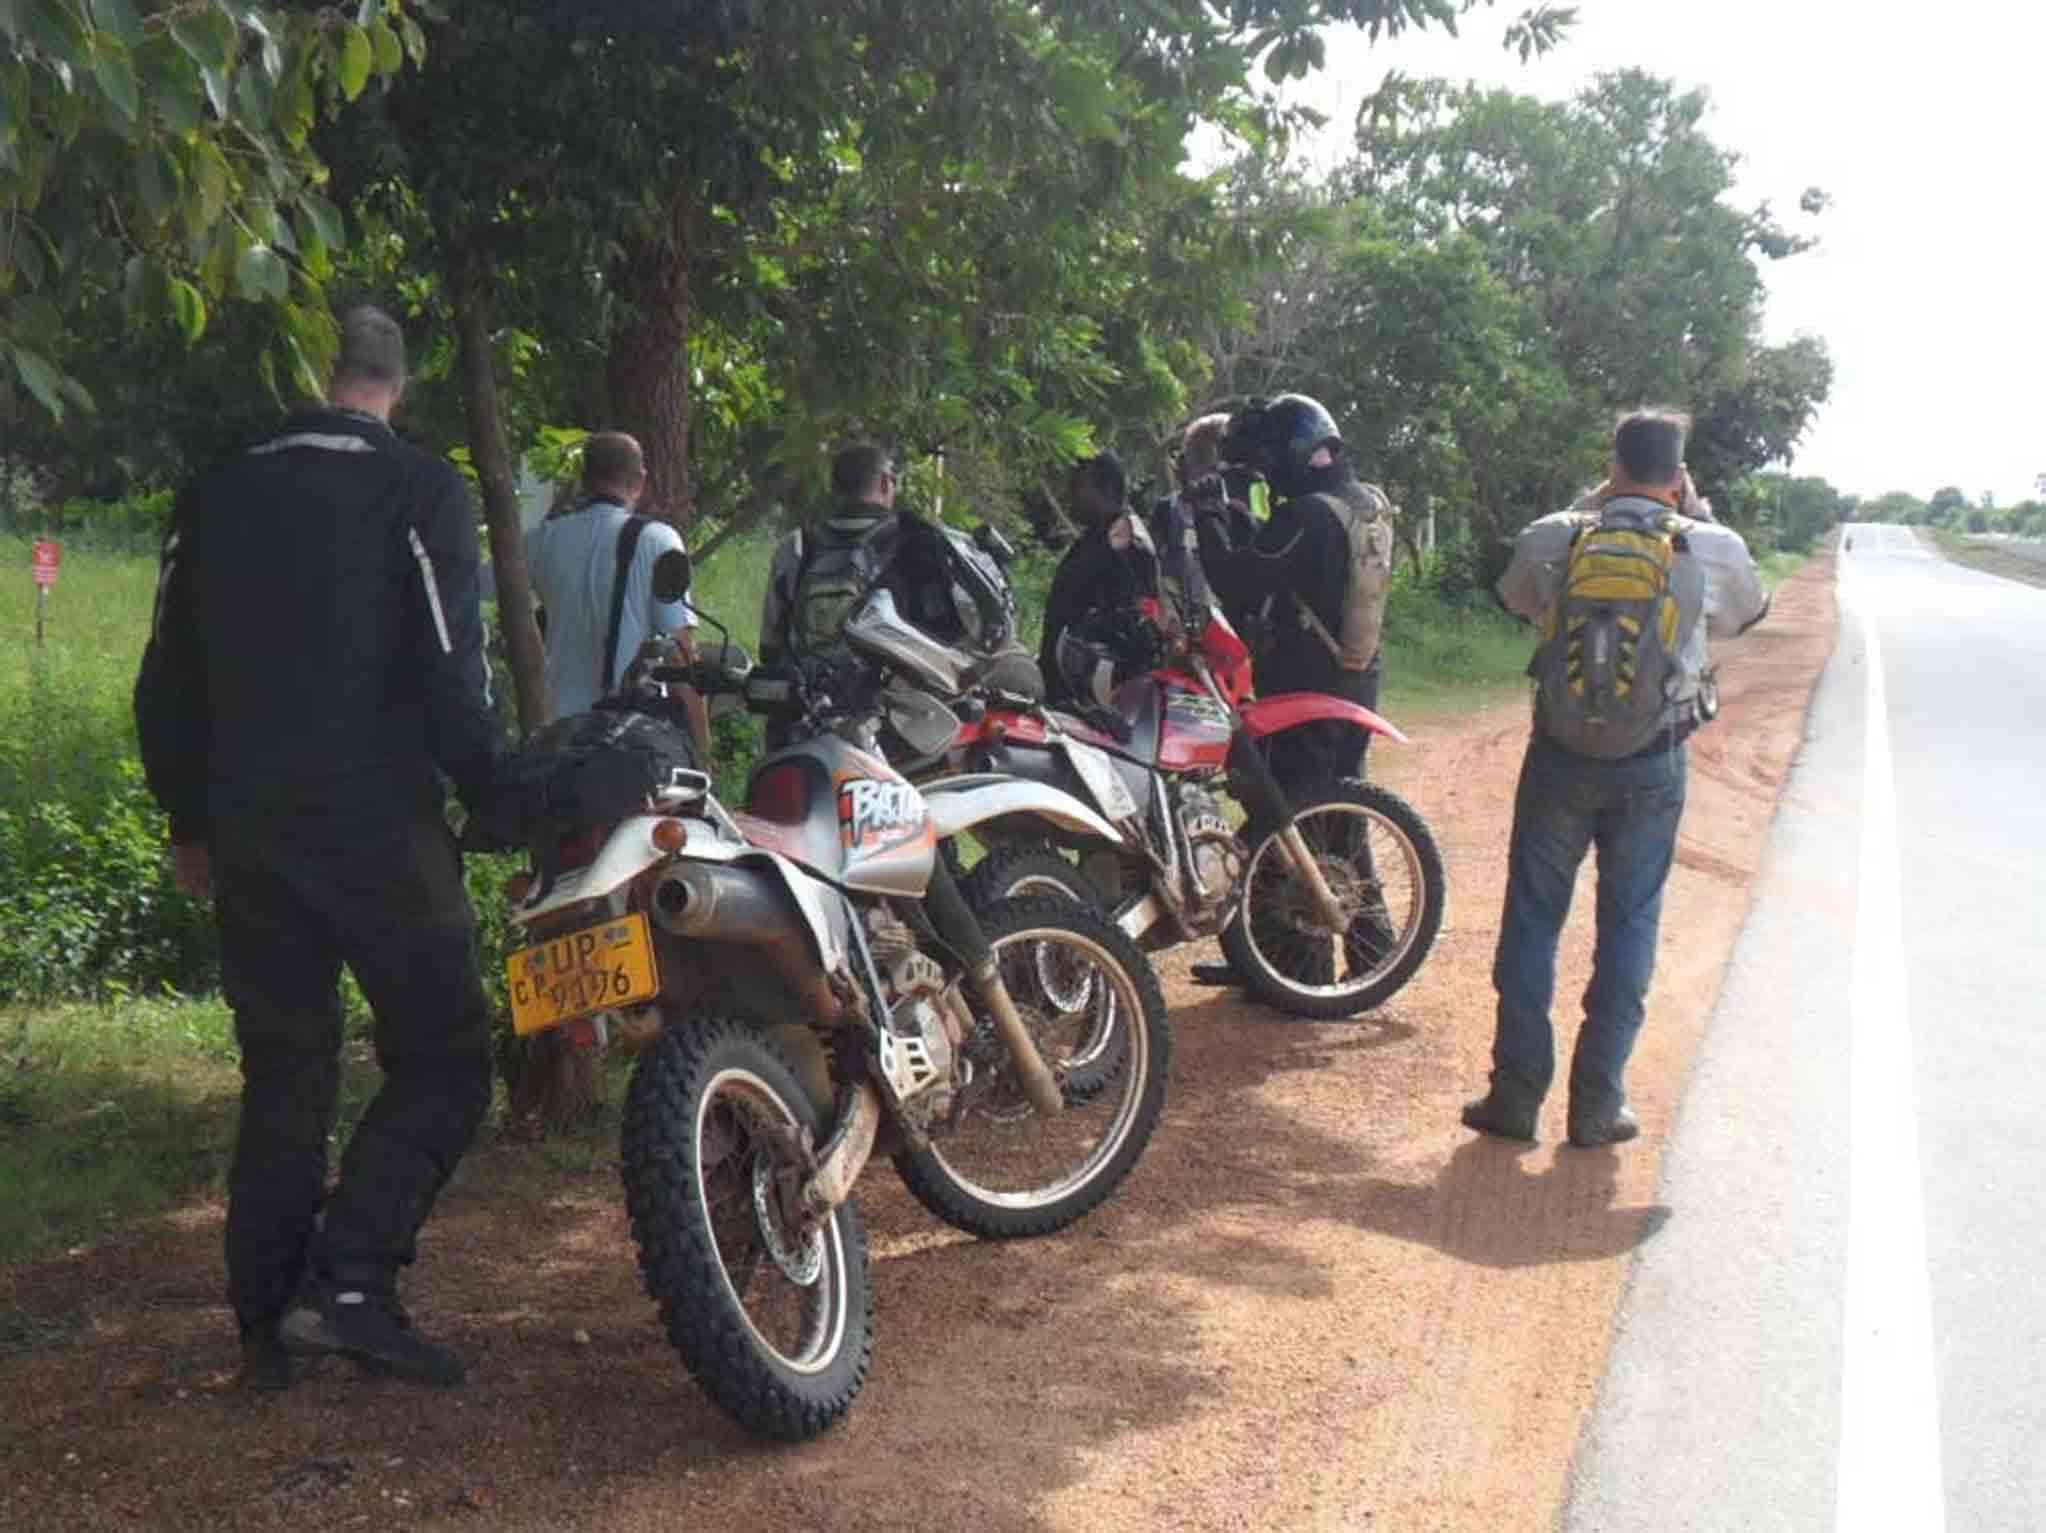motorbike: (502, 556, 1165, 1449), (956, 594, 1444, 1026)
